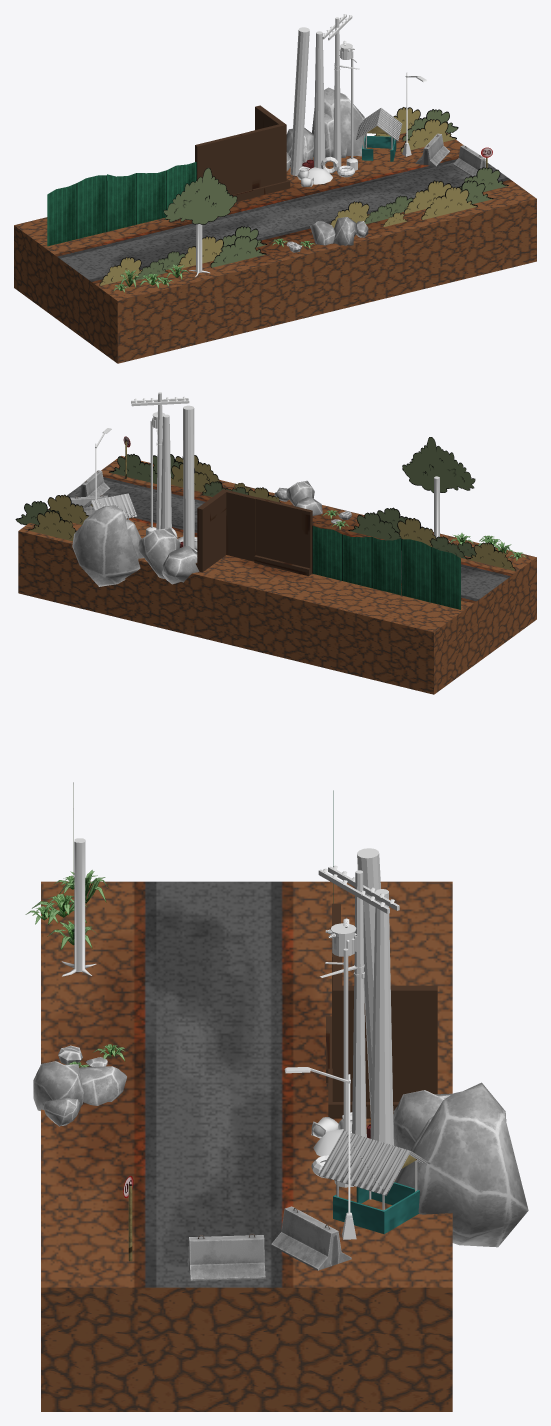
File: Stage_Tutorial.fbx
3 renders of one model, top to bottom at view 1: azimuth 30°, elevation 25°; view 2: azimuth 150°, elevation 25°; view 3: azimuth 270°, elevation 25°, orthographic. The views are drawn at different scales.
Parts seen in each view (by area): view 1: ground1.009, Cube.383, Cube.384, 2d bush.343, yero.056, Cube.340, yero.055, yero.057, Cube.338, yero.058, poste.013, Cube.339 (+20 smaller); view 2: ground1.009, Cube.384, Cube.382, Cube.383, 2d bush.343, yero.056, Cube.340, yero.055, yero.057, yero.059, yero.058, Cube.379 (+18 smaller); view 3: ground1.009, Cube.382, Cube.384, Cube.338, poste.013, Cube.339, Circle.019, Circle.018, Cube.340, Cube.379, 2d bush.343, Cube.348 (+4 smaller).
Boxes of the visible parts, x1,y1,x2,y2 form: ground1.009: [14, 132, 536, 363]; Cube.383: [195, 131, 253, 201]; Cube.384: [250, 105, 290, 196]; 2d bush.343: [163, 167, 237, 276]; yero.056: [77, 175, 107, 238]; Cube.340: [290, 27, 309, 175]; yero.055: [47, 183, 77, 246]; yero.057: [107, 173, 136, 231]; Cube.338: [356, 108, 402, 161]; yero.058: [137, 170, 166, 224]; poste.013: [322, 14, 359, 170]; Cube.339: [313, 31, 325, 168]; ground1.009: [18, 456, 536, 694]; Cube.384: [195, 489, 257, 572]; Cube.382: [72, 505, 140, 586]; Cube.383: [254, 497, 312, 576]; 2d bush.343: [402, 437, 475, 541]; yero.056: [401, 539, 431, 602]; Cube.340: [183, 405, 194, 549]; yero.055: [431, 547, 460, 609]; yero.057: [371, 537, 401, 595]; yero.059: [312, 525, 341, 580]; yero.058: [342, 534, 371, 587]; Cube.379: [138, 527, 180, 579]; ground1.009: [41, 881, 452, 1411]; Cube.382: [395, 1082, 528, 1247]; Cube.384: [328, 957, 437, 1118]; Cube.338: [318, 1130, 430, 1234]; poste.013: [318, 865, 399, 1137]; Cube.339: [370, 889, 393, 1145]; Circle.019: [187, 1234, 265, 1280]; Circle.018: [271, 1206, 351, 1270]; Cube.340: [357, 848, 380, 1117]; Cube.379: [393, 1090, 450, 1150]; 2d bush.343: [61, 782, 96, 976]; Cube.348: [33, 1061, 83, 1111].
Size of the model in its own units: 1452 by 682 by 738.
